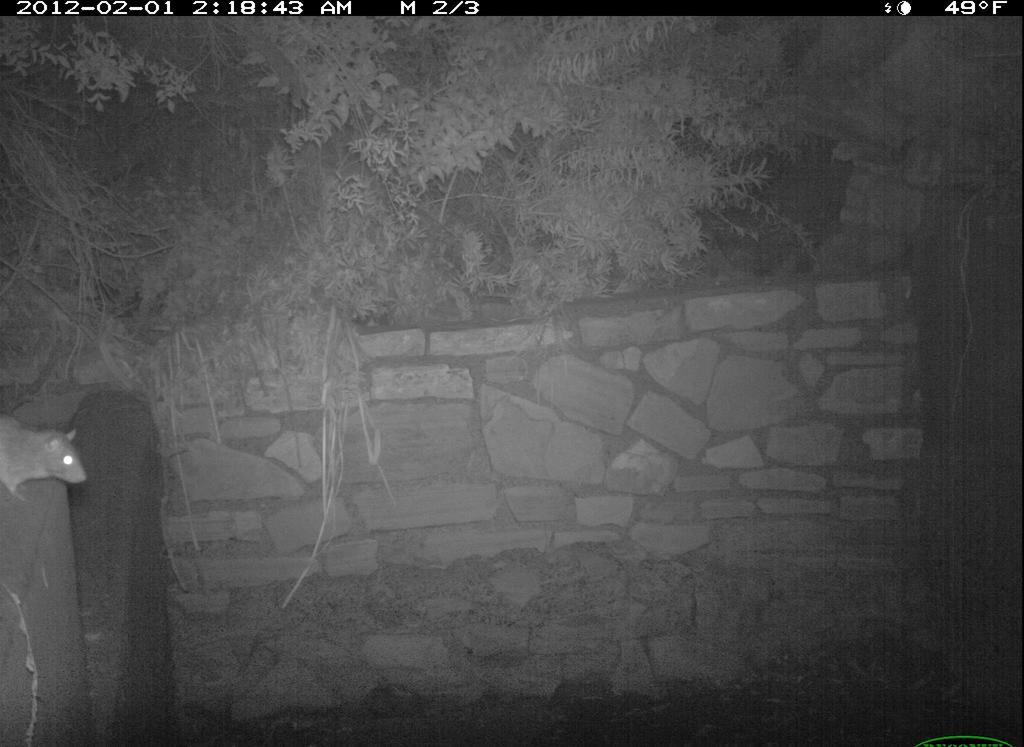rodent: (2, 409, 98, 516)
